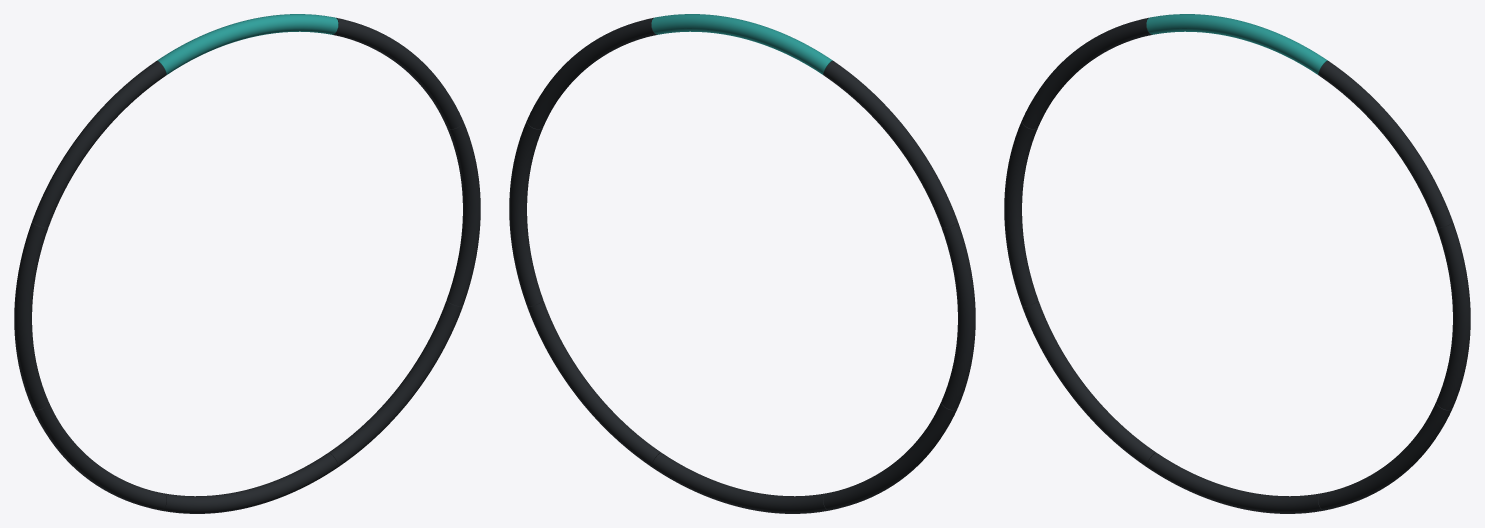
File: full.fbx
3 views of the same model, side by side, from view 1: azimuth 30°, elevation 25°; view 2: azimuth 150°, elevation 25°; view 3: azimuth 330°, elevation 25° (orthographic).
Parts seen in each view (by area): view 1: Padded section 2, Padded section 6, Padded section 3, Padded section 1, Padded section 7, Padded section 5, Padded section 4, Padded section 0; view 2: Padded section 2, Padded section 6, Padded section 3, Padded section 1, Padded section 7, Padded section 5, Padded section 4, Padded section 0; view 3: Padded section 0, Padded section 4, Padded section 7, Padded section 1, Padded section 3, Padded section 5, Padded section 6, Padded section 2.
Part boxes in pixels (x1,y1,x2,y2): Padded section 2: (32, 61, 166, 227); Padded section 6: (329, 300, 462, 466); Padded section 3: (14, 222, 48, 409); Padded section 1: (157, 14, 338, 74); Padded section 7: (446, 121, 480, 306); Padded section 5: (161, 452, 338, 513); Padded section 4: (32, 401, 166, 510); Padded section 0: (333, 17, 462, 128); Padded section 2: (823, 61, 957, 227); Padded section 6: (527, 300, 660, 466); Padded section 3: (941, 222, 975, 409); Padded section 1: (651, 14, 832, 74); Padded section 7: (509, 121, 543, 306); Padded section 5: (651, 452, 828, 513); Padded section 4: (823, 401, 957, 510); Padded section 0: (527, 17, 656, 128); Padded section 0: (1318, 61, 1452, 227); Padded section 4: (1022, 300, 1155, 466); Padded section 7: (1436, 222, 1470, 409); Padded section 1: (1146, 14, 1327, 74); Padded section 3: (1004, 121, 1038, 306); Padded section 5: (1146, 452, 1323, 513); Padded section 6: (1318, 401, 1452, 510); Padded section 2: (1022, 17, 1151, 128).
Size of the model in its own units: 90 by 90 by 2.92.
